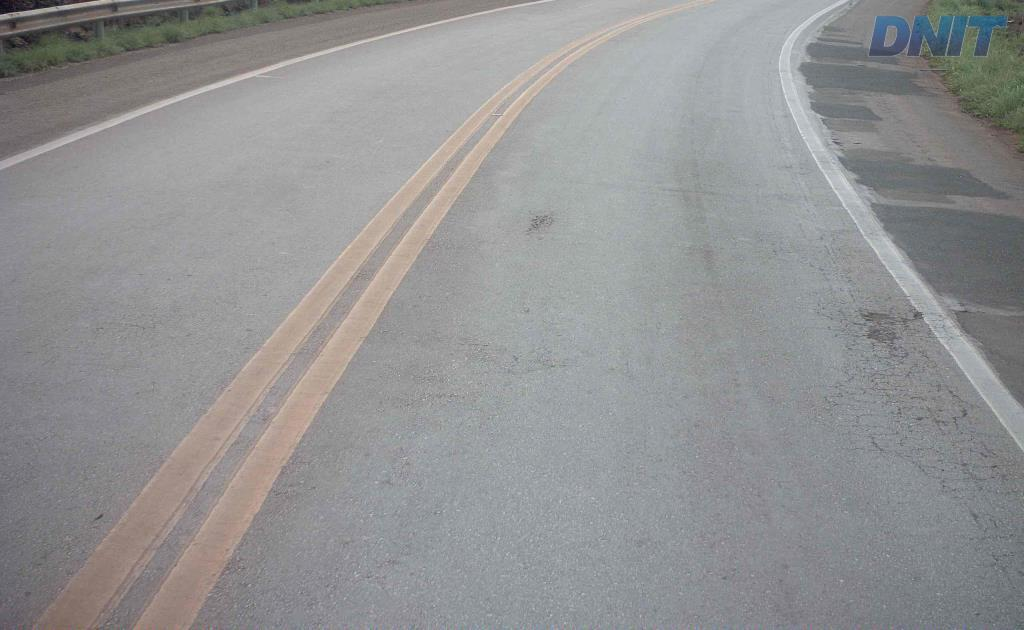crack: (851, 307, 924, 369), (989, 545, 1023, 575)
pothole: (862, 296, 905, 346)
